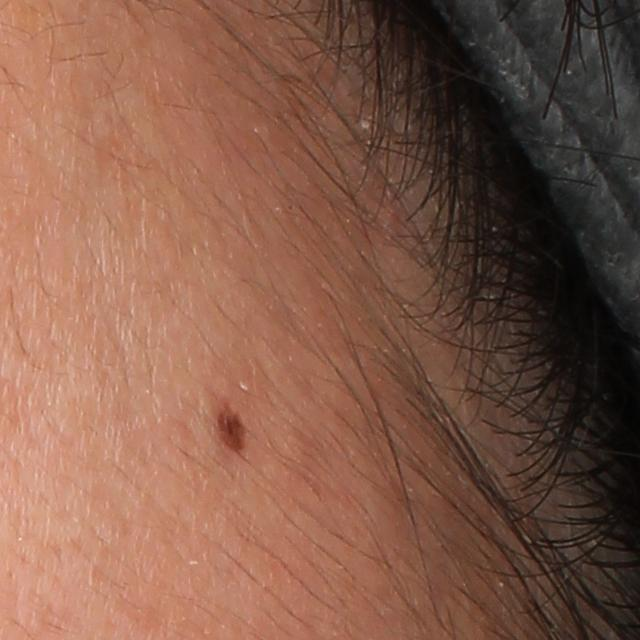nevus: (210, 401, 248, 452)
